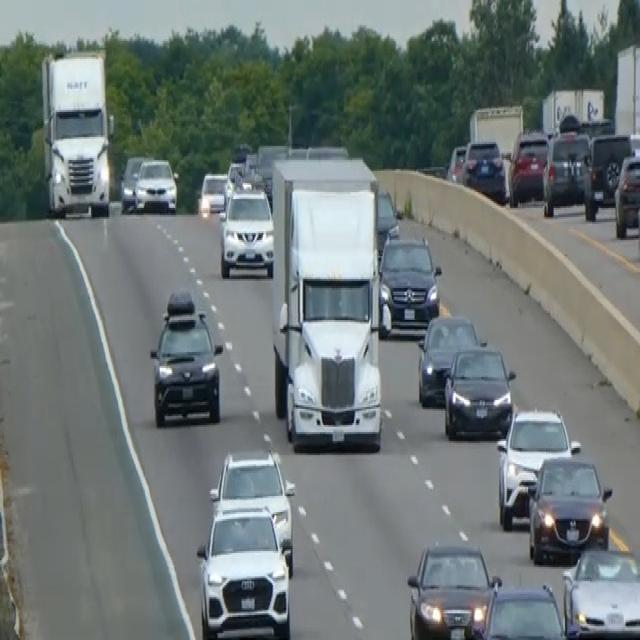car: (196, 502, 292, 638), (208, 446, 296, 574), (495, 405, 579, 530), (148, 288, 223, 427), (526, 452, 612, 564), (406, 539, 499, 638), (561, 544, 639, 638), (443, 341, 516, 439), (378, 233, 441, 334), (463, 580, 569, 638), (416, 311, 480, 405), (218, 185, 274, 279), (582, 130, 633, 218), (542, 128, 590, 215), (508, 128, 549, 204), (461, 137, 507, 204), (134, 156, 178, 214), (613, 151, 639, 238), (375, 187, 399, 254), (197, 169, 228, 219), (119, 153, 144, 211), (446, 142, 467, 183), (636, 172, 639, 265)
lorry: (269, 154, 385, 452), (39, 48, 115, 219)
